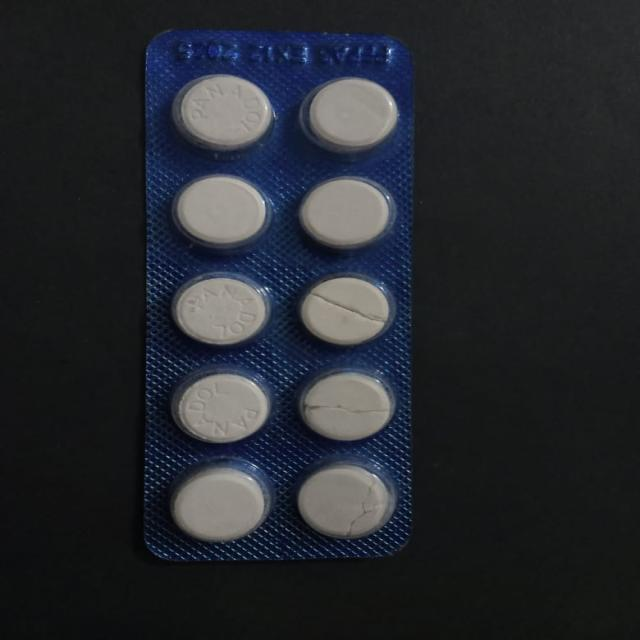defect: (293, 457, 400, 542), (293, 365, 401, 444), (296, 269, 399, 350)
